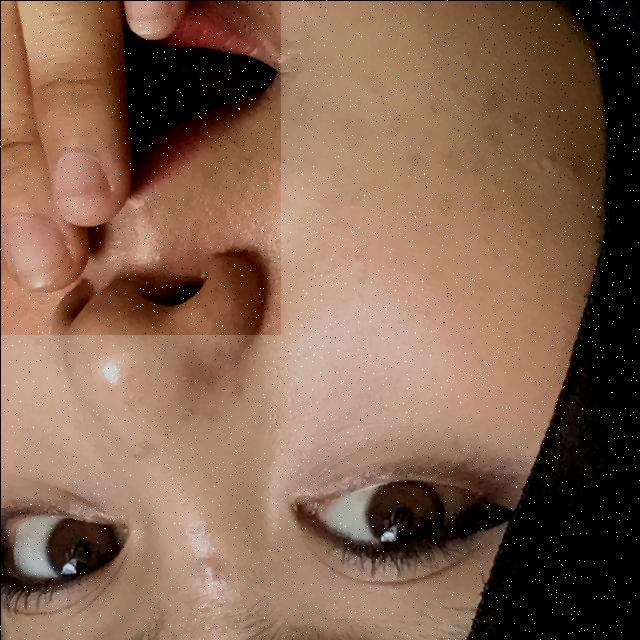ngantuk: (0, 0, 280, 334)
